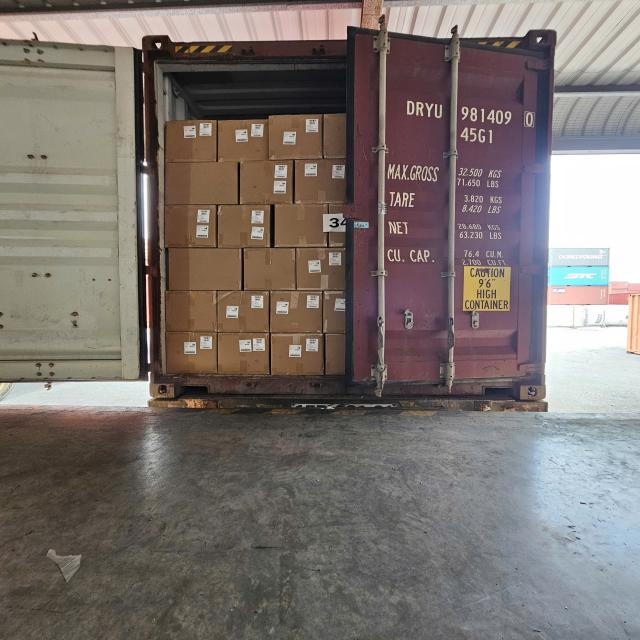Carton: (164, 164, 240, 209), (167, 250, 244, 294), (294, 158, 348, 204), (269, 115, 323, 161), (240, 160, 294, 205), (215, 205, 270, 249), (274, 204, 329, 248), (245, 250, 299, 294), (164, 205, 218, 249), (165, 332, 219, 376), (269, 333, 323, 376), (219, 332, 271, 376), (268, 292, 322, 334), (166, 289, 218, 332), (218, 292, 270, 334), (218, 120, 269, 162), (167, 121, 218, 163), (295, 250, 343, 294), (323, 290, 351, 335), (324, 334, 348, 377)
